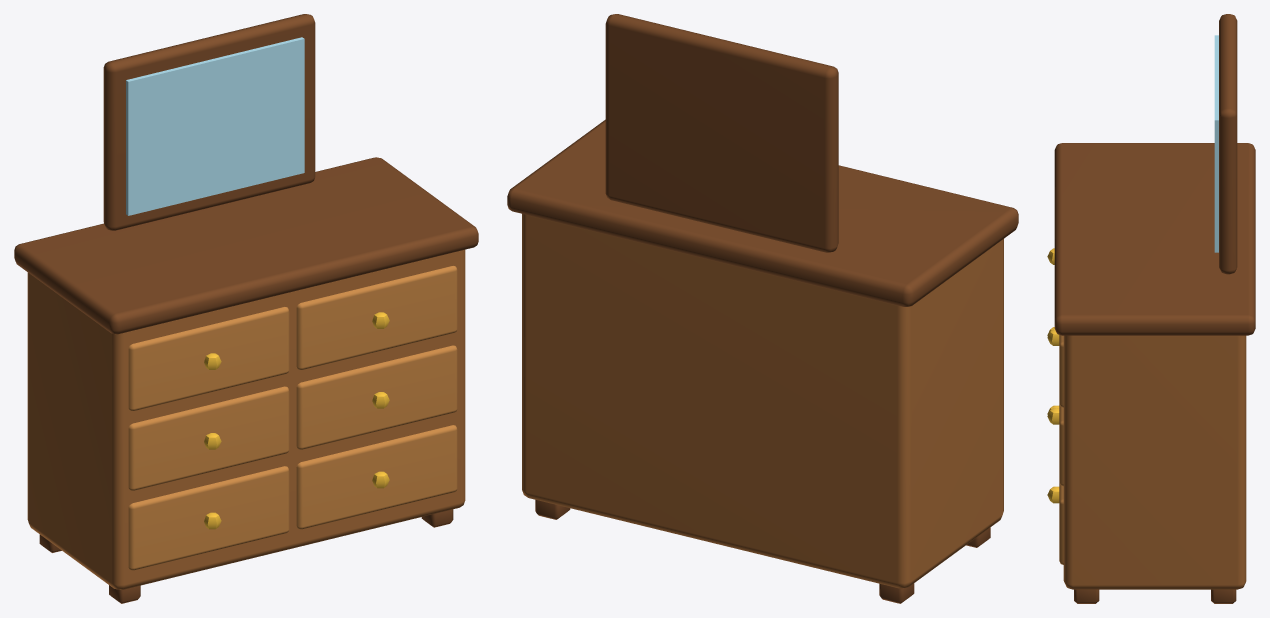
File: Dresser.fbx
3 renders of one model, left to right at view 1: azimuth 30°, elevation 25°; view 2: azimuth 150°, elevation 25°; view 3: azimuth 270°, elevation 25°, orthographic. The views are drawn at different scales.
Visible parts, largest first — view 1: Dresser; view 2: Dresser; view 3: Dresser.
Part boxes in pixels (x1,y1,x2,y2): Dresser: (14,14,478,603); Dresser: (507,14,1018,603); Dresser: (1047,14,1255,603).
Size of the model in its own units: 4.6 by 5.6 by 2.28.
Materials: 1 (1 with a texture image).
